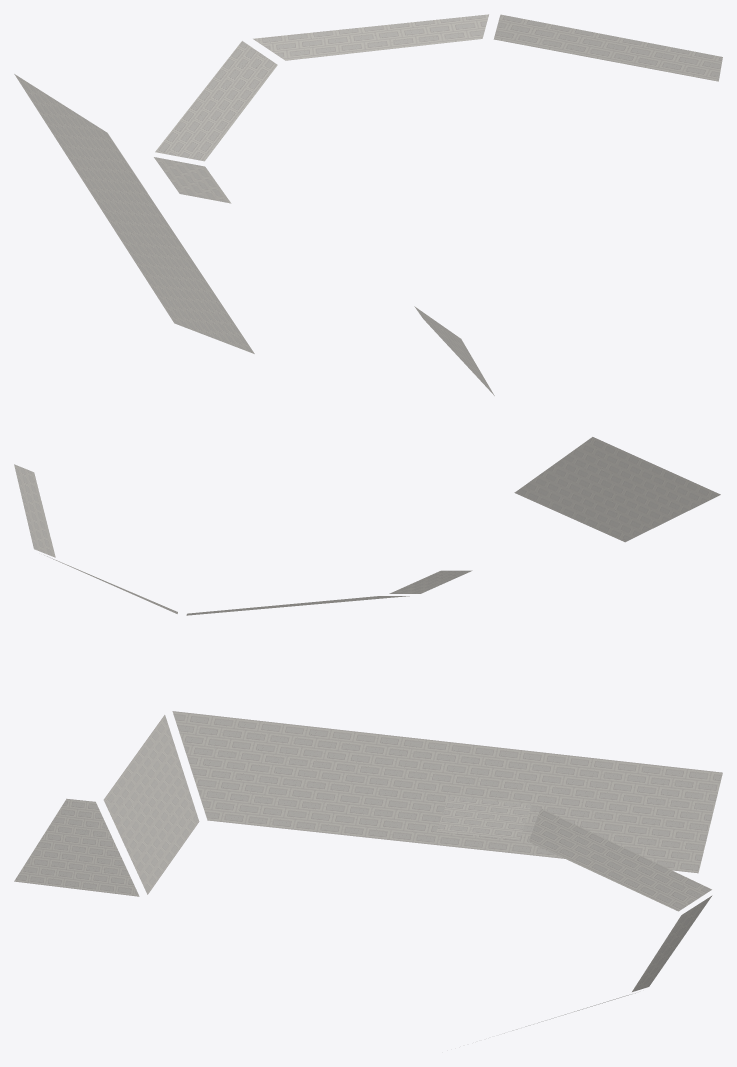
Rendered from kd_stage_136599_2_4_bounded.glb.
3 views of the same model, one above another, from view 1: azimuth 30°, elevation 25°; view 2: azimuth 150°, elevation 25°; view 3: azimuth 270°, elevation 25° (orthographic). The views are drawn at different scales.
Parts seen in each view (by area): view 1: kd_stage_136599_2_4_bounded; view 2: kd_stage_136599_2_4_bounded; view 3: kd_stage_136599_2_4_bounded.
Part boxes in pixels (x1,y1,x2,y2): kd_stage_136599_2_4_bounded: (14, 14, 722, 395); kd_stage_136599_2_4_bounded: (14, 437, 720, 615); kd_stage_136599_2_4_bounded: (14, 711, 722, 1033).
Bounding box in the file's own units: 218 × 20.46 × 205.
Materials: 1 (1 with a texture image).
